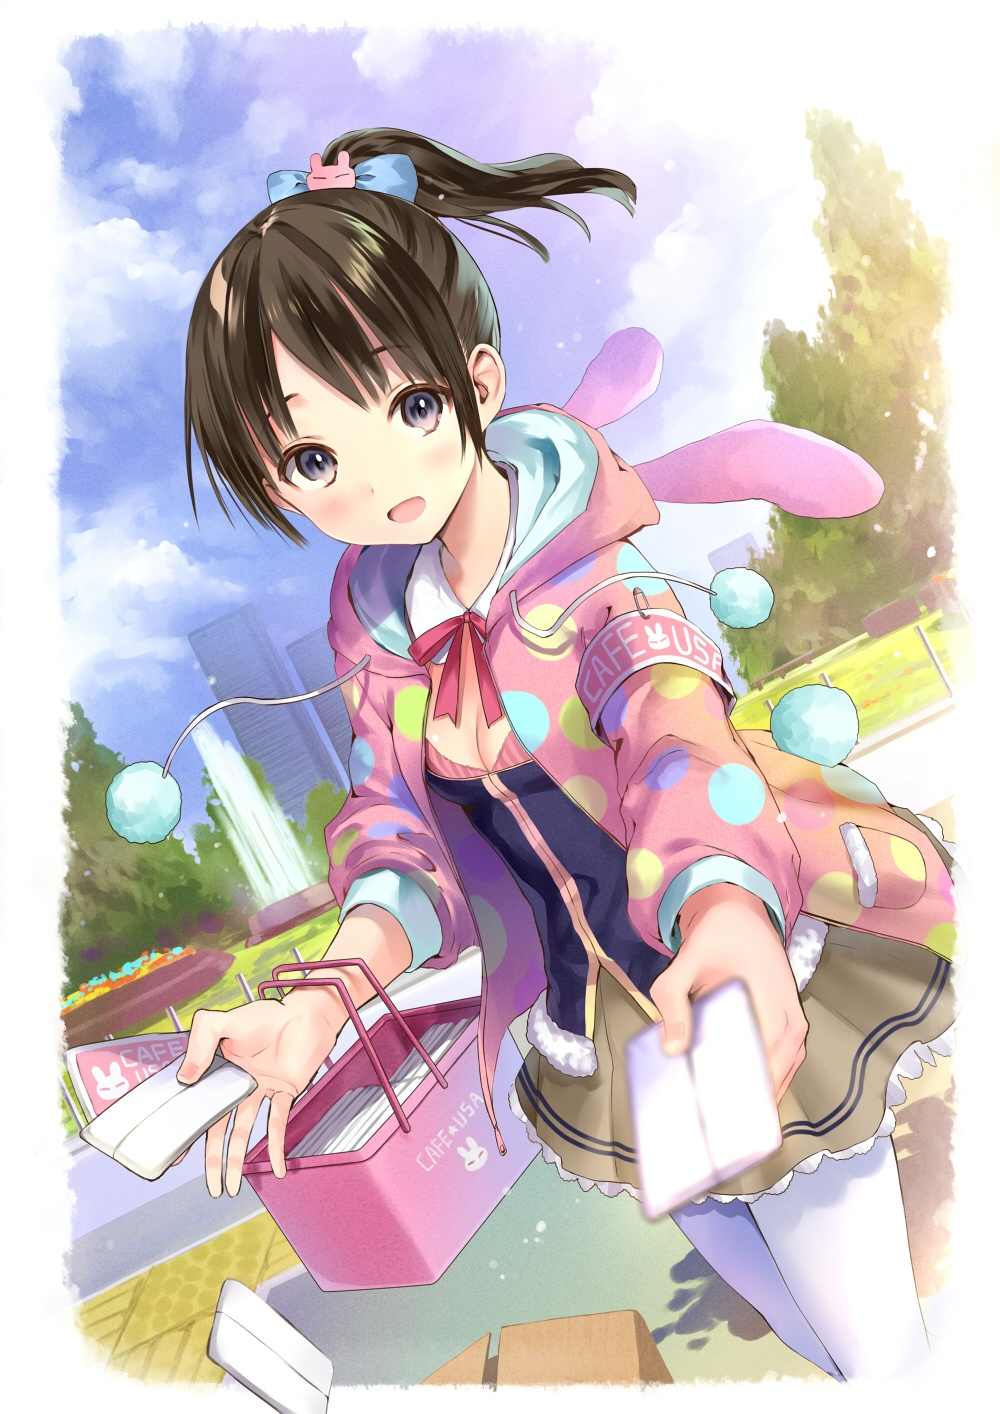纸片人正脸: (168, 152, 525, 566)
